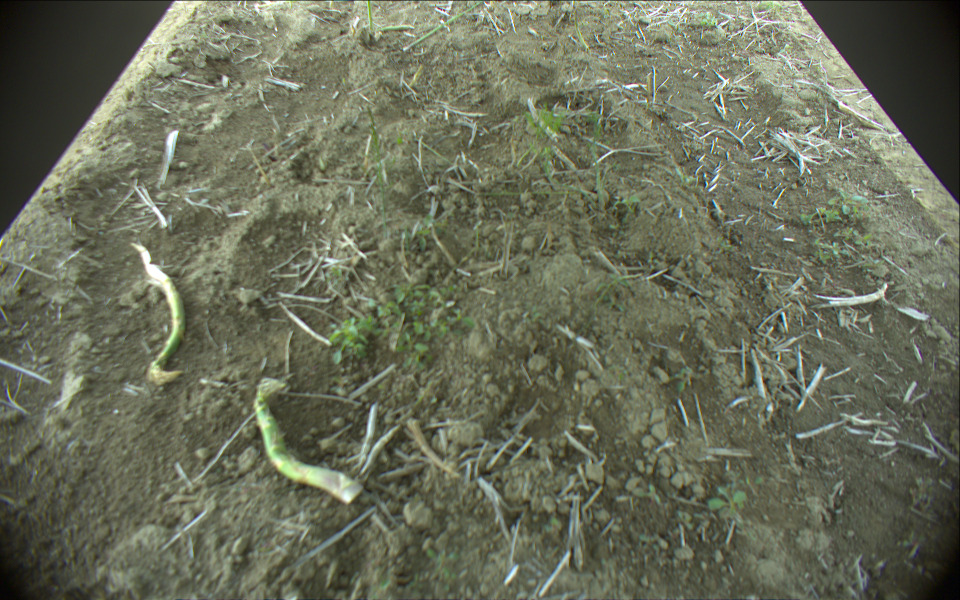aspa: (250, 377, 365, 506), (137, 244, 186, 385), (402, 1, 494, 54), (572, 3, 589, 50), (365, 1, 374, 32), (379, 24, 415, 31)
